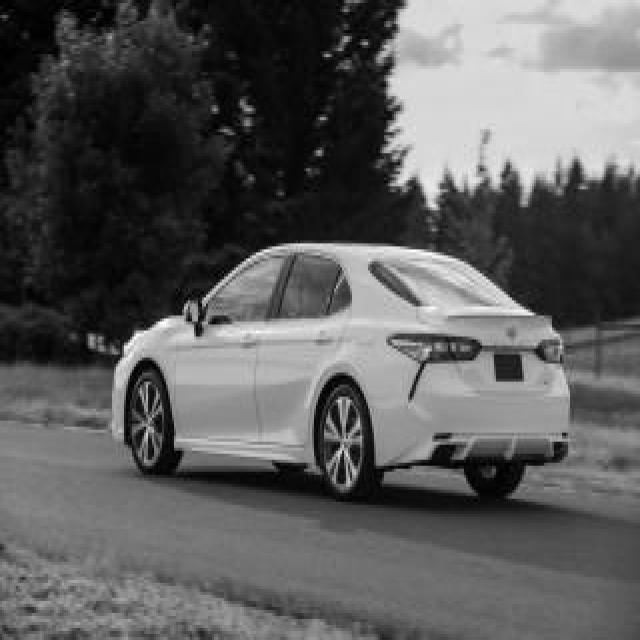Car: (111, 242, 570, 499)
